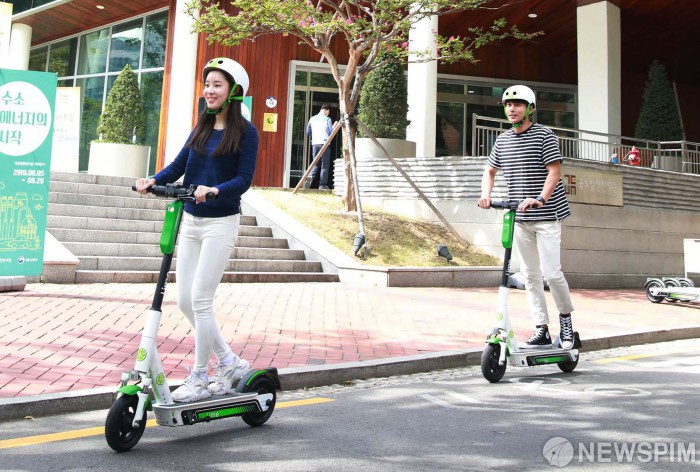scooter: (106, 181, 281, 455), (477, 201, 585, 383)
